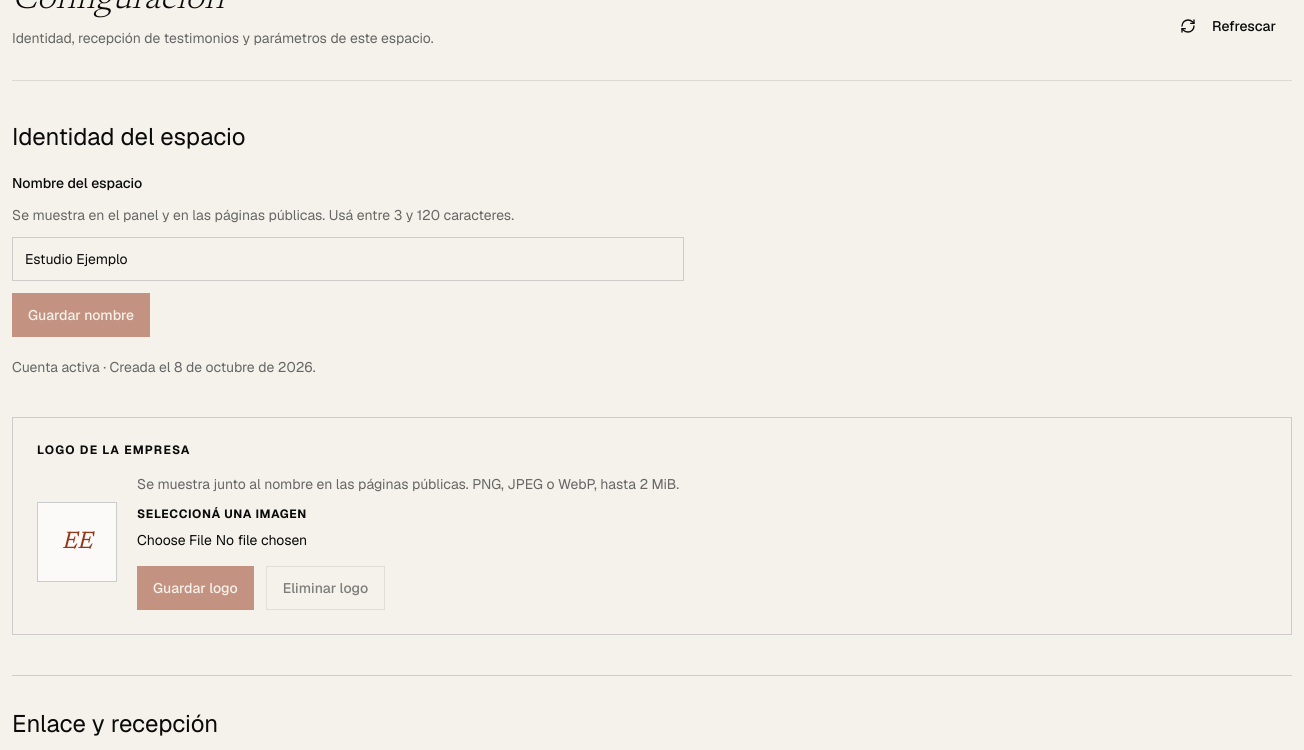
Test case: independent workspace settings › ignores an obsolete refresh that resolves after a reception write
This screenshot has width=1304, height=750.
expect the field labelled "Nombre del espacio" is shown: met, box [12,237,684,281]
What coordinates should you click on to do the following:
click the button "Refrescar"
I would click on:
 (1228, 26)
Its box is [1164,4,1292,48].
(page scrolled)
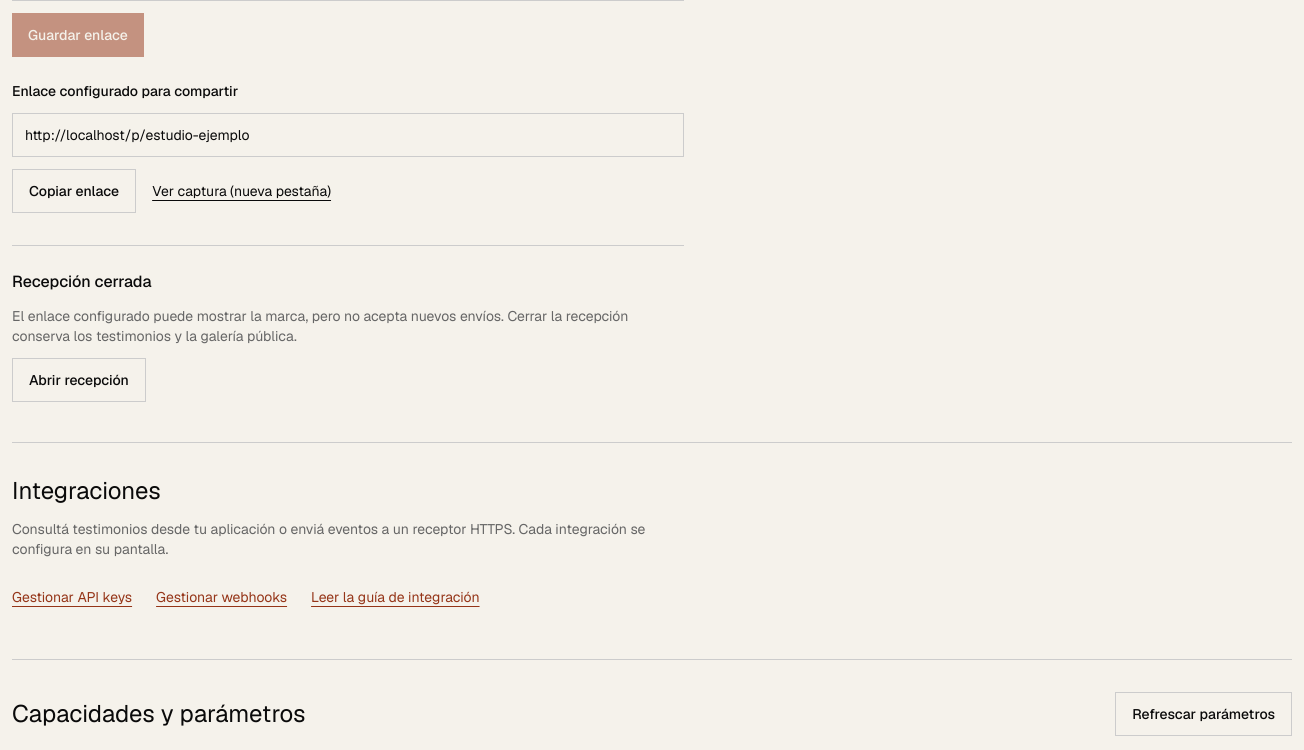
What coordinates should you click on to do the following:
click the button "Abrir recepción"
I would click on:
 (79, 380)
Its box is [12,358,146,402].
(page scrolled)
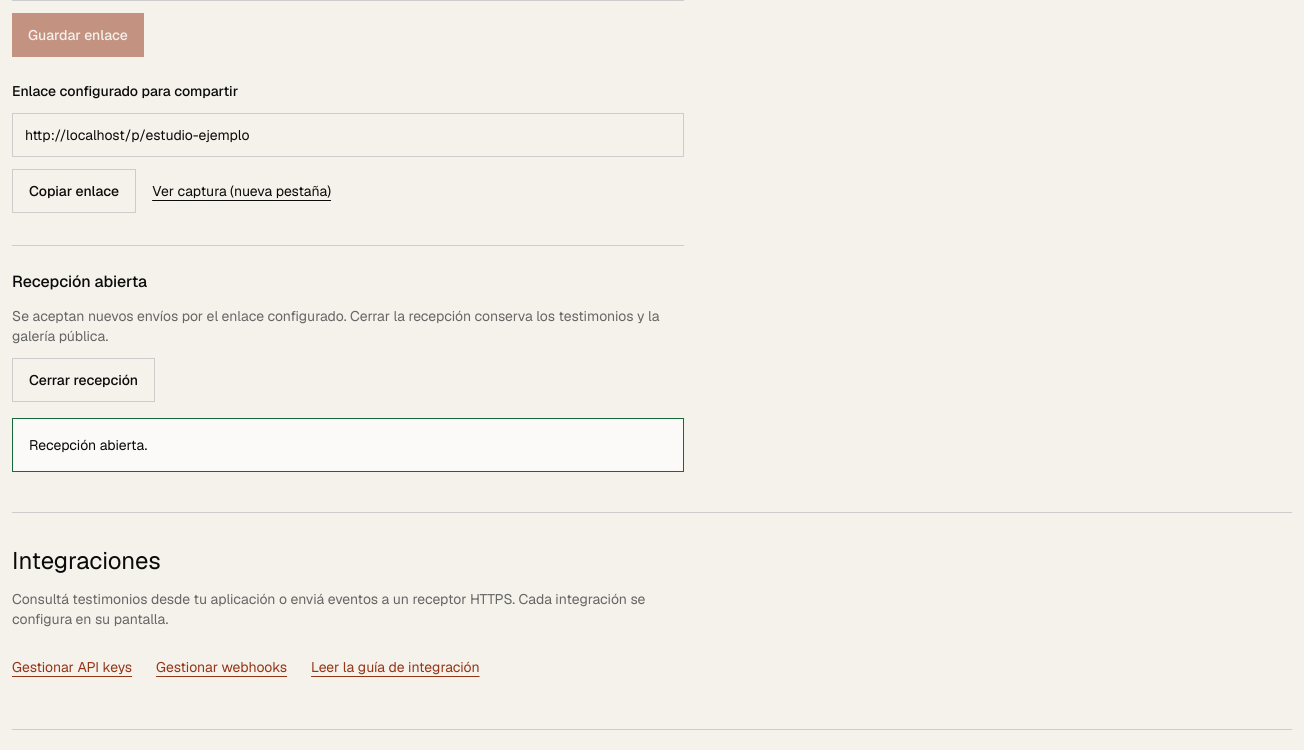
expect the button "Cerrar recepción" is enabled: met, box [12,358,155,402]
expect the text "Recepción abierta." is shown: met, box [12,418,684,472]
